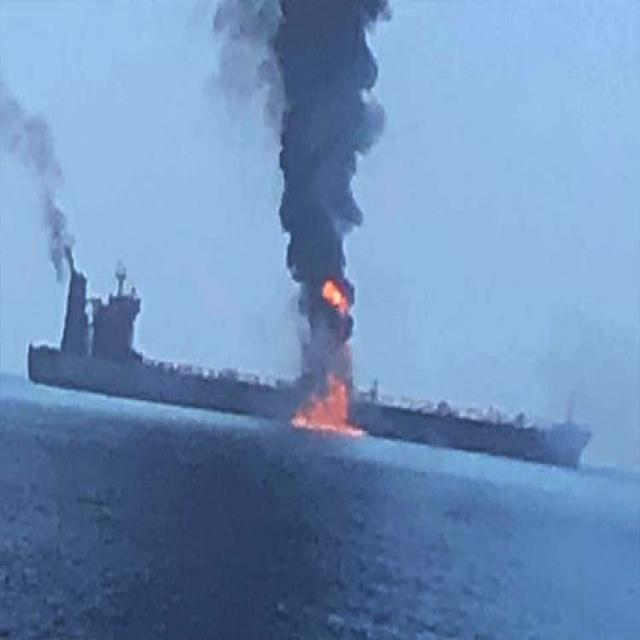cargoship: (28, 254, 317, 421)
